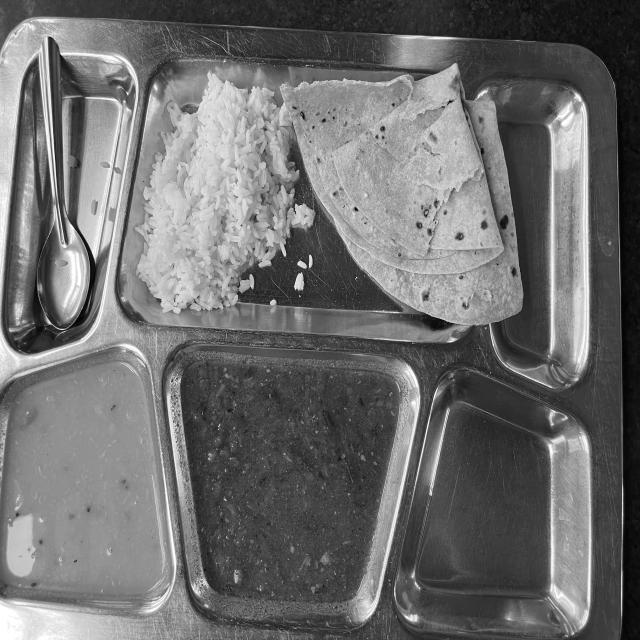70.14- Food Left: (13, 28, 613, 627)
